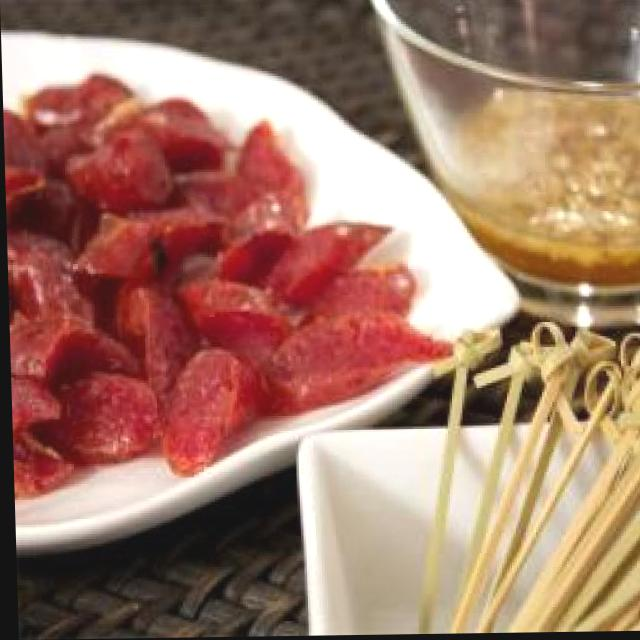chinese_sausage: (2, 80, 427, 503)
